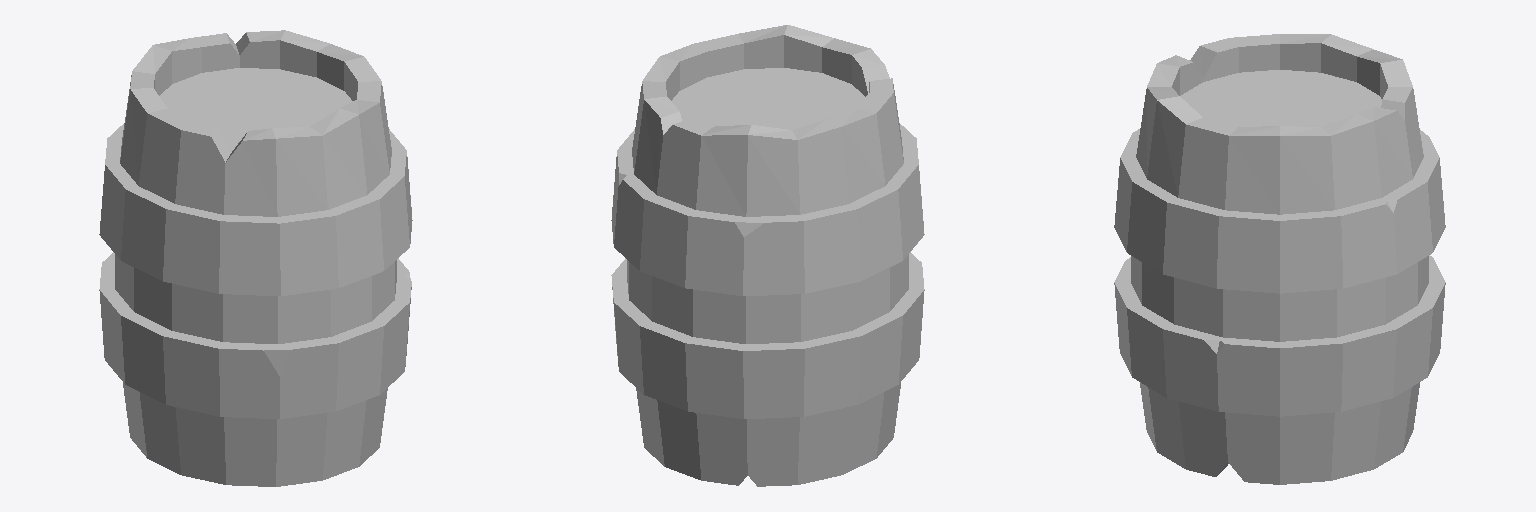
The model's file is barrel_broken_big.obj.
3 views of the same model, side by side, from view 1: azimuth 30°, elevation 25°; view 2: azimuth 150°, elevation 25°; view 3: azimuth 270°, elevation 25° (orthographic).
Parts seen in each view (by area): view 1: Cylinder.003; view 2: Cylinder.003; view 3: Cylinder.003.
Boxes of the visible parts, box(x1,y1,x2,y2) form: Cylinder.003: box(99, 30, 412, 486); Cylinder.003: box(611, 25, 924, 486); Cylinder.003: box(1114, 34, 1445, 484).
Bounding box in the file's own units: 2.34 × 2.92 × 2.49.